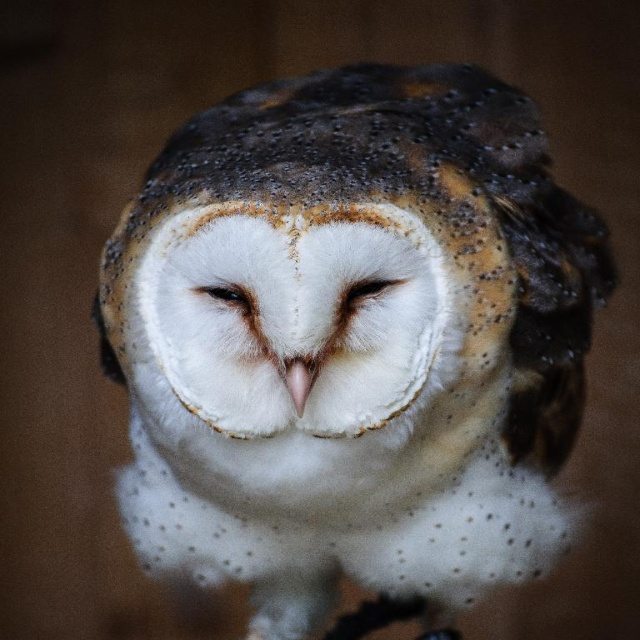Owl: (90, 56, 629, 635)
